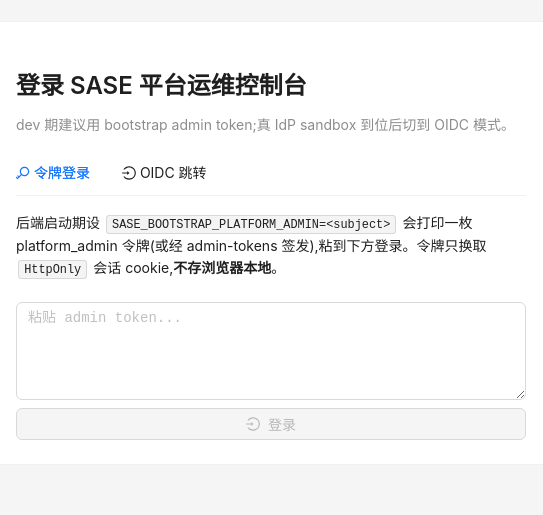
Test: W2 Login 令牌登录 › 登录失败(后端 401)→ unauthenticated + 显示「登录失败」
Type "bad.token" into the text box with placeholder "粘贴 admin token..." at (271, 351), box [16,302,526,400]
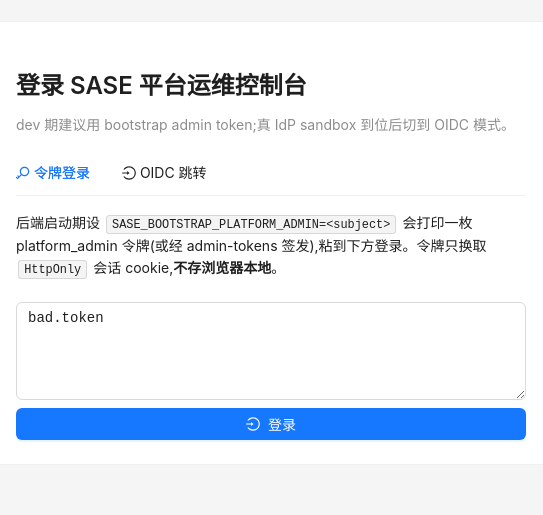
Click the button "登录" at (271, 424), box [16,408,526,440]
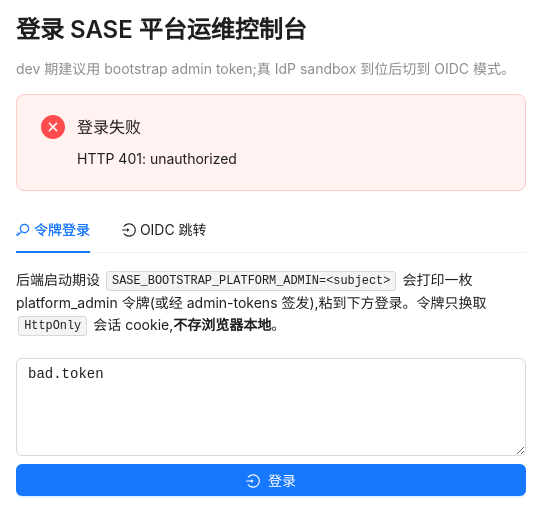
Expected: the text "登录失败" is shown, [77,117,141,137]
